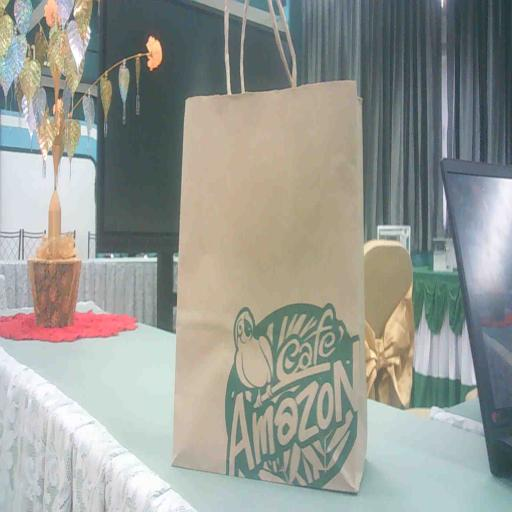bag: (172, 86, 368, 501)
